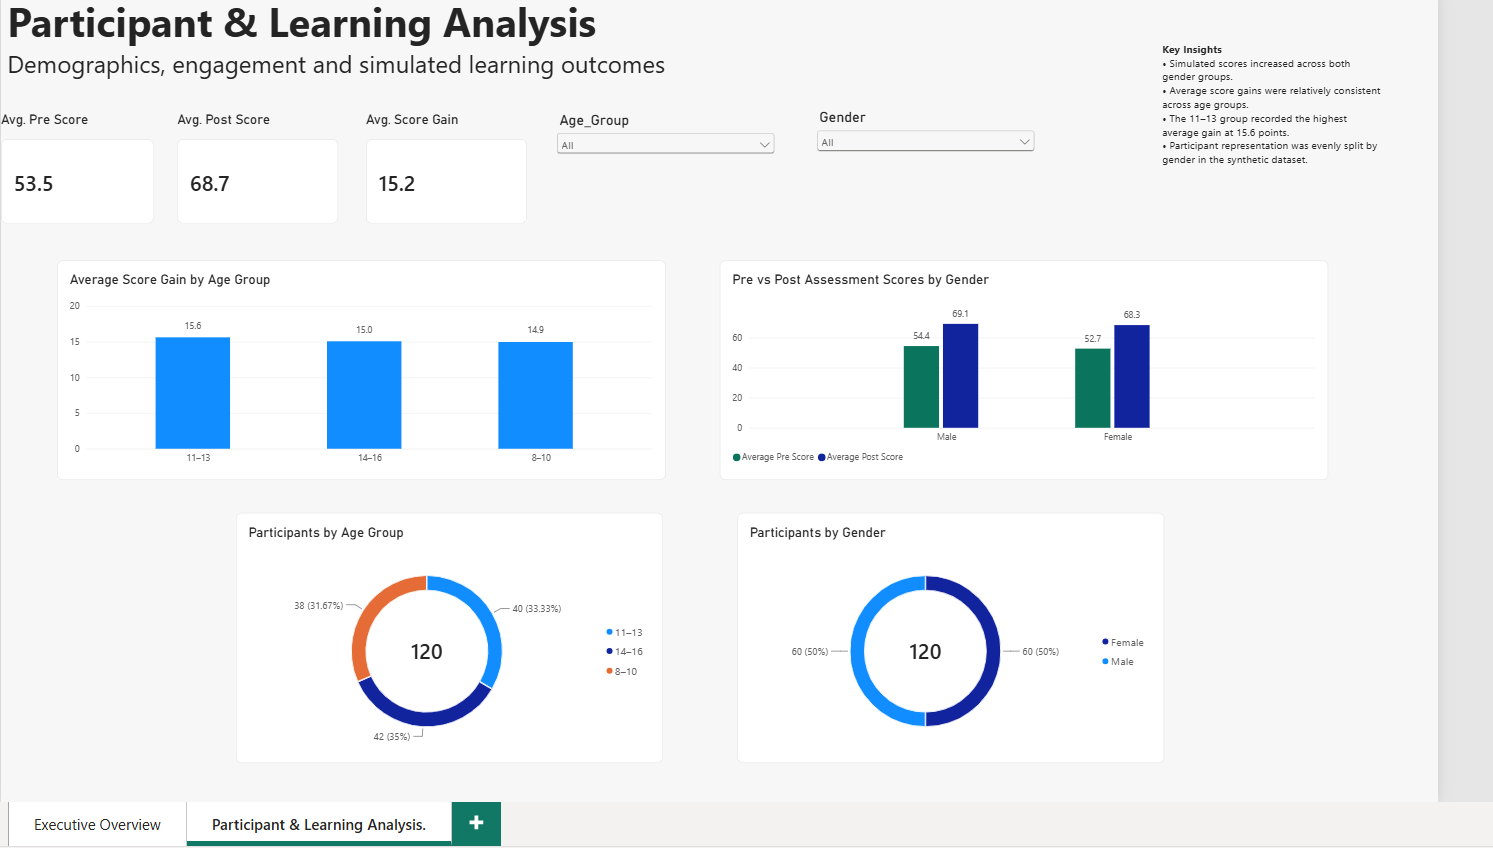

The page's visual inventory and layout, read from the dashboard file:
{"tool":"powerbi","page":{"name":"Participant & Learning Analysis.","canvas":[1920,1080],"ordinal":1},"visuals":[{"type":"textbox","box":[9,0,1175.3,128.1],"z":0},{"type":"cardVisual","title":"Avg. Pre Score","fields":{"Data":["AssessmentsTable.Average Pre Score"]},"box":[0,157,204.8,150.2],"z":1000},{"type":"cardVisual","title":"Avg. Score Gain","fields":{"Data":["AssessmentsTable.Average Score Improvement"]},"box":[488.2,157,215.1,150.2],"z":2000},{"type":"cardVisual","title":"Avg. Post Score","fields":{"Data":["AssessmentsTable.Average Post Score"]},"box":[235.6,157,215.1,150.2],"z":3000},{"type":"lineStackedColumnComboChart","title":"Average Score Gain by Age Group","fields":{"Category":["ParticipantsTable.Age_Group"],"Y":["AssessmentsTable.Average Score Improvement"]},"box":[75.1,355.1,812.5,293.6],"z":4000},{"type":"clusteredColumnChart","title":"Pre vs Post Assessment Scores by Gender","fields":{"Category":["ParticipantsTable.Gender"],"Y":["AssessmentsTable.Average Pre Score","AssessmentsTable.Average Post Score"]},"box":[959.3,355.1,812.5,293.6],"z":5000},{"type":"donutChart","title":"Participants by Age Group","fields":{"Category":["ParticipantsTable.Age_Group"],"Y":["ParticipantsTable.Total Participants"]},"box":[314.1,693,570.1,334.6],"z":6000},{"type":"donutChart","title":"Participants by Gender ","fields":{"Category":["ParticipantsTable.Gender"],"Y":["ParticipantsTable.Total Participants"]},"box":[983.2,693,570.1,334.6],"z":6001},{"type":"slicer","fields":{"Values":["ParticipantsTable.Age_Group"]},"box":[737.4,157,300.4,75.1],"z":6002},{"type":"slicer","fields":{"Values":["ParticipantsTable.Gender"]},"box":[1085.7,153.6,300.4,78.5],"z":6003},{"type":"textbox","box":[1551.5,63.5,299.2,198.6],"z":6004}]}

Visuals, with their boxes on the page's 1920x1080 design canvas (x1, y1, x2, y2). These are canvas units, not pixel positions in the 1493x848 screenshot, which may show the page scaled, cropped or inside an application window:
textbox: crop(9, 0, 1184, 128)
"Avg. Pre Score" cardVisual: crop(0, 157, 205, 307)
"Avg. Score Gain" cardVisual: crop(488, 157, 703, 307)
"Avg. Post Score" cardVisual: crop(236, 157, 451, 307)
"Average Score Gain by Age Group" lineStackedColumnComboChart: crop(75, 355, 888, 649)
"Pre vs Post Assessment Scores by Gender" clusteredColumnChart: crop(959, 355, 1772, 649)
"Participants by Age Group" donutChart: crop(314, 693, 884, 1028)
"Participants by Gender " donutChart: crop(983, 693, 1553, 1028)
slicer - ParticipantsTable.Age_Group: crop(737, 157, 1038, 232)
slicer - ParticipantsTable.Gender: crop(1086, 154, 1386, 232)
textbox: crop(1552, 64, 1851, 262)
